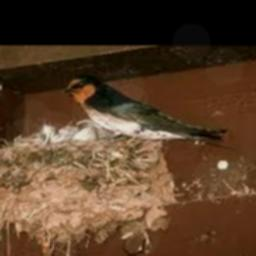Swallow: (65, 76, 226, 142)
